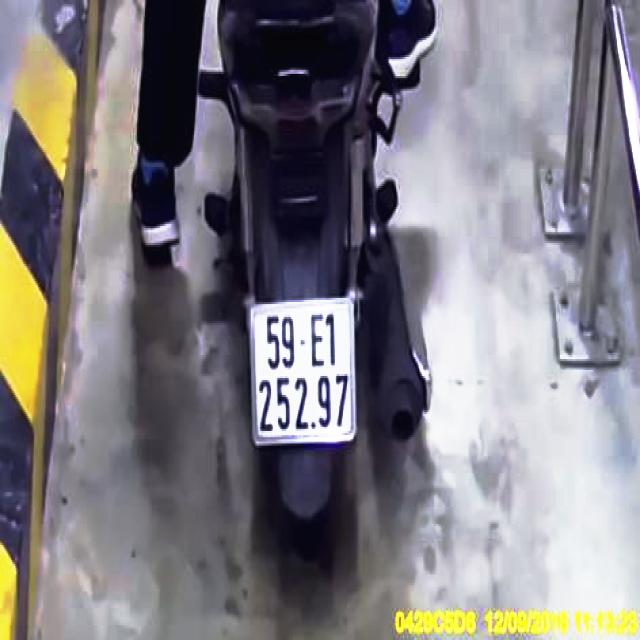license_plate: (252, 303, 353, 441)
